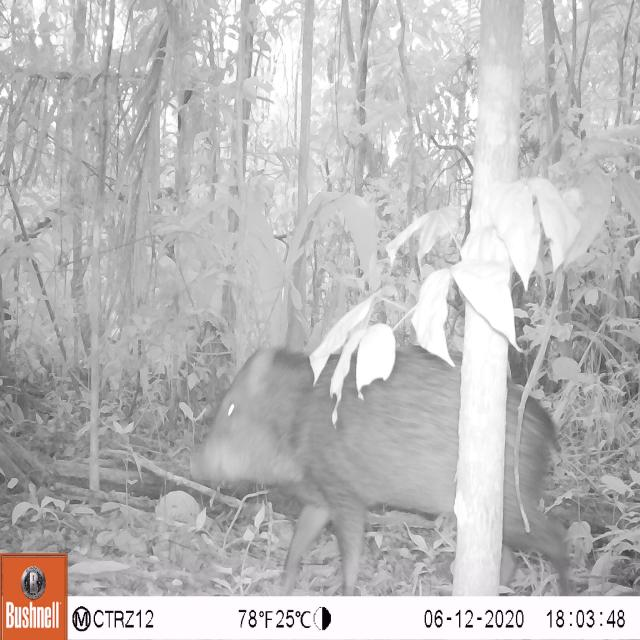Collared Peccary: (182, 323, 596, 599)
